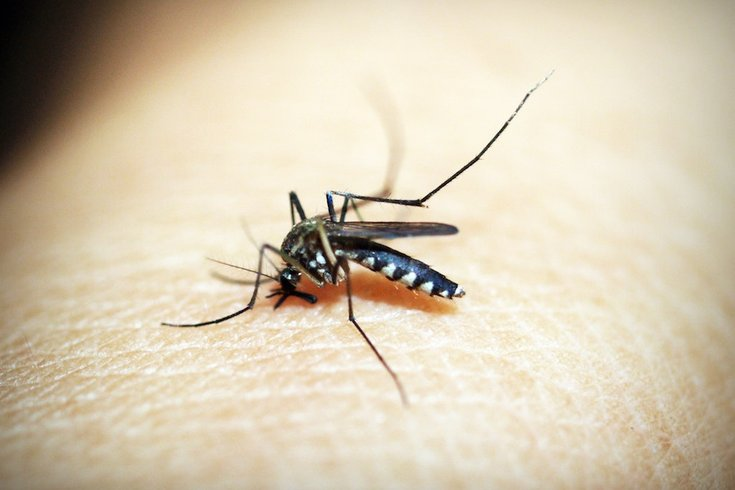dengue_mosquito: (204, 188, 468, 335)
